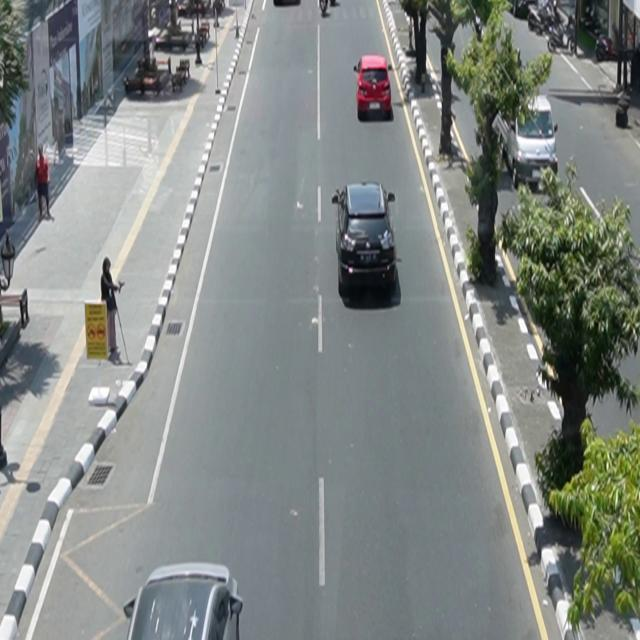car: (124, 563, 244, 640), (332, 181, 398, 297), (492, 94, 560, 193), (354, 55, 393, 121)
